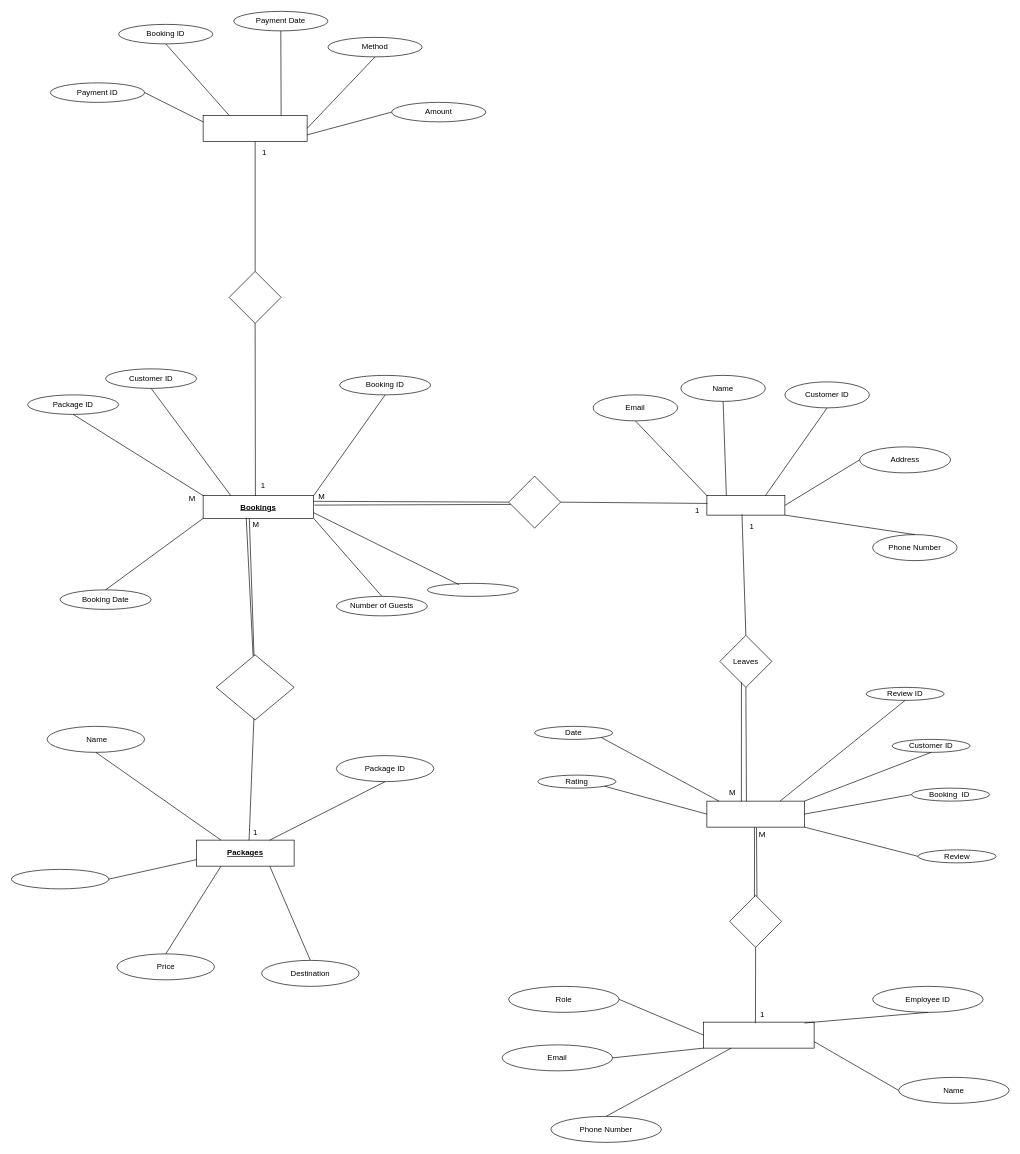
Image size: 1020x1154. Some labels were removed from this diagram. The shapes that lost their labels are listed below. From the top down, each one's box as (x1, y1, x2, y2) in pixels, then its label:
(202, 115, 307, 141): Payments
(228, 271, 281, 323): Lead to
(508, 475, 561, 528): Makes
(706, 495, 785, 515): Users
(427, 583, 518, 596): Total Price
(215, 654, 294, 720): provides booking details
(706, 800, 804, 827): Reviews
(11, 869, 109, 889): Description
(703, 1021, 814, 1048): Employees
